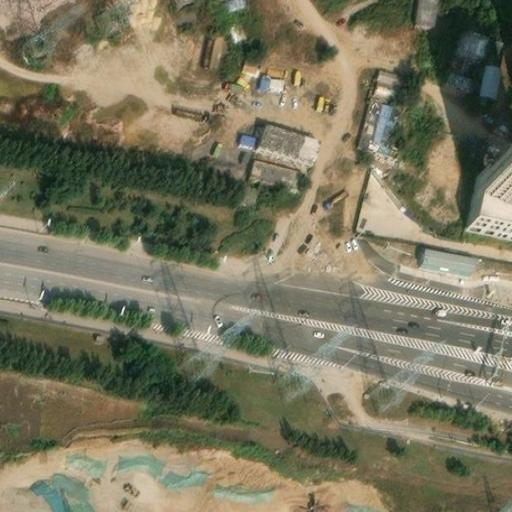building: (236, 114, 322, 158), (468, 161, 512, 206), (365, 98, 399, 152), (467, 194, 512, 231), (441, 50, 479, 93), (420, 239, 475, 268), (249, 155, 297, 185), (197, 31, 225, 70), (454, 21, 489, 50), (369, 66, 400, 98), (480, 60, 504, 93), (254, 72, 283, 94), (236, 55, 260, 78), (412, 0, 435, 22)
